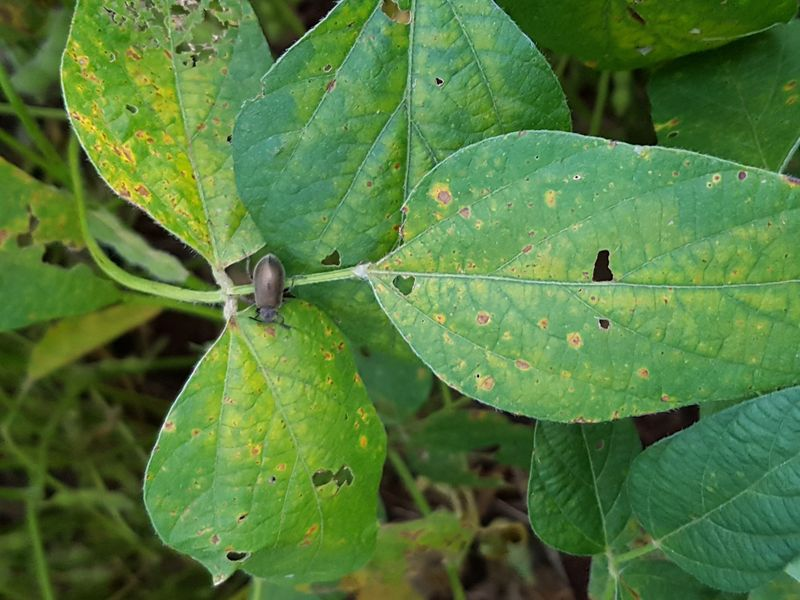Lagria_villosa: (233, 244, 311, 335)
